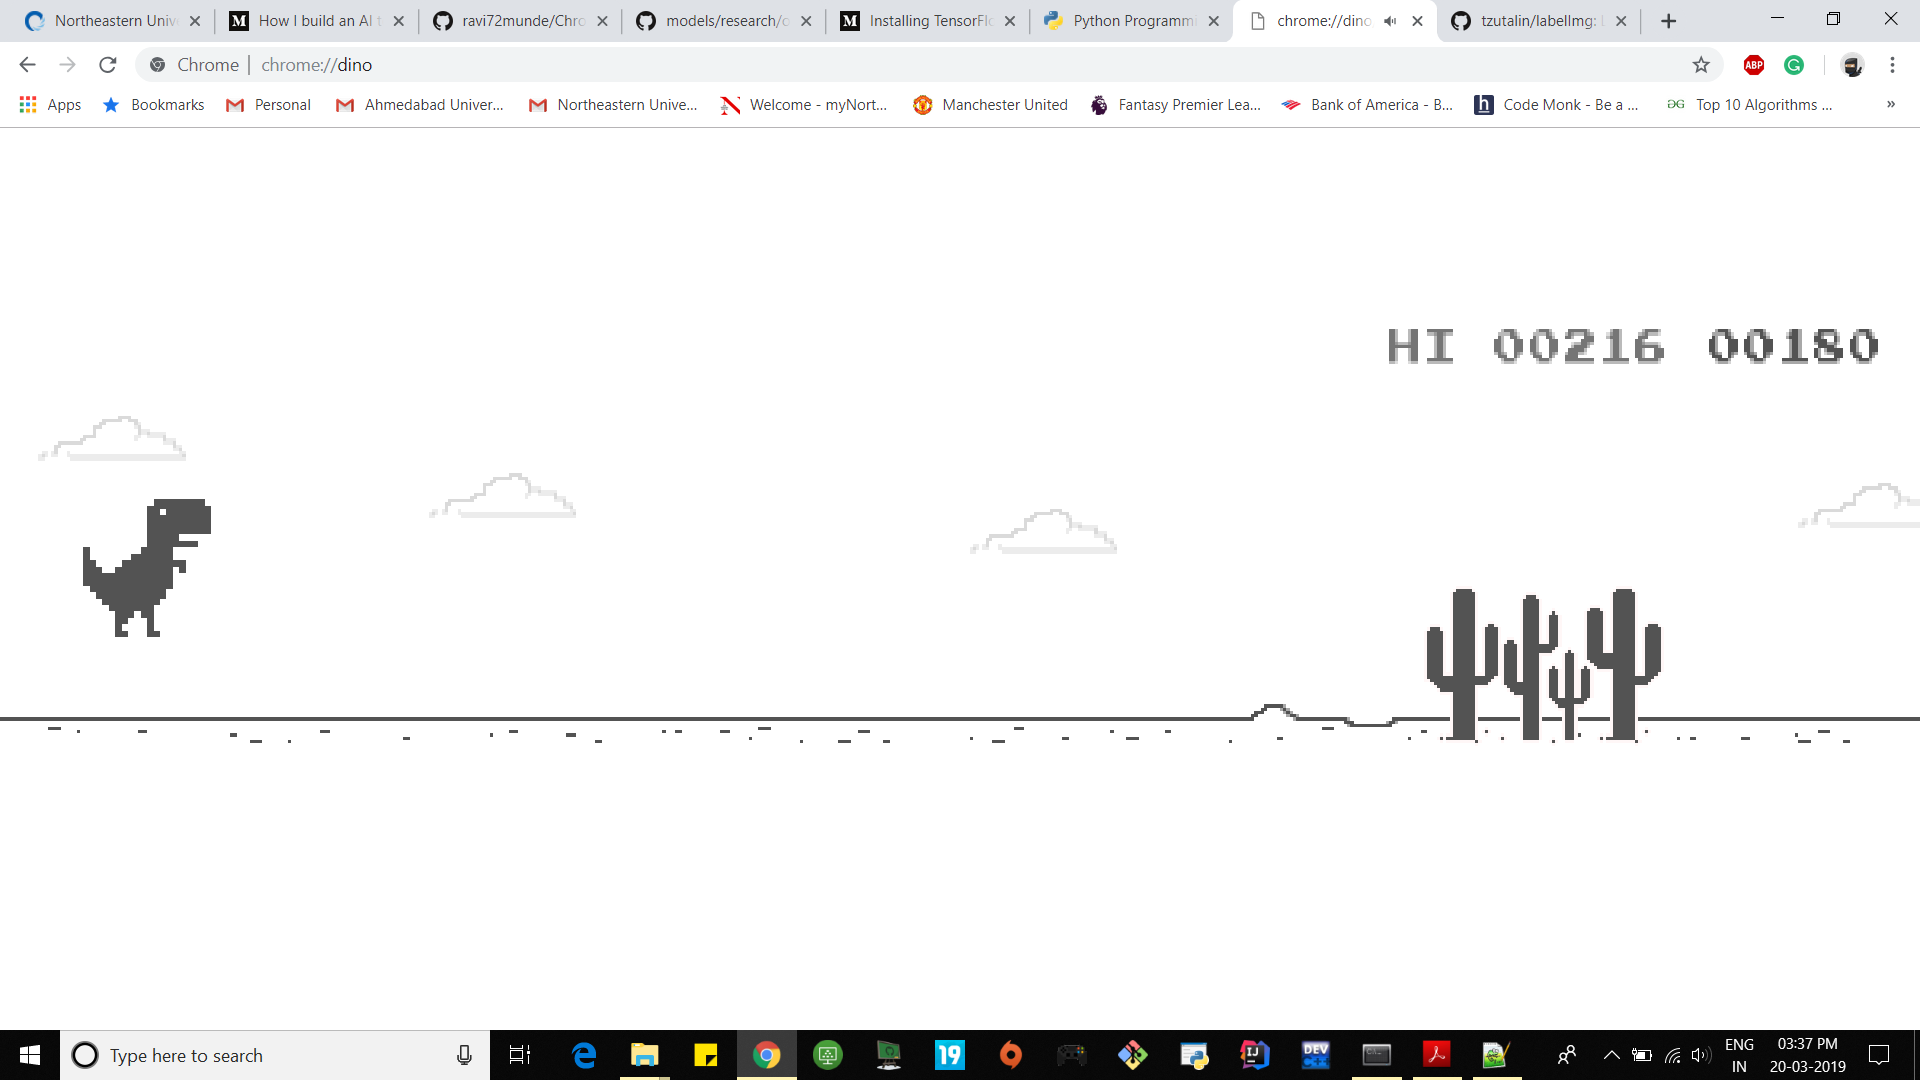cactus-4: (1425, 587, 1662, 742)
dino: (82, 495, 212, 640)
